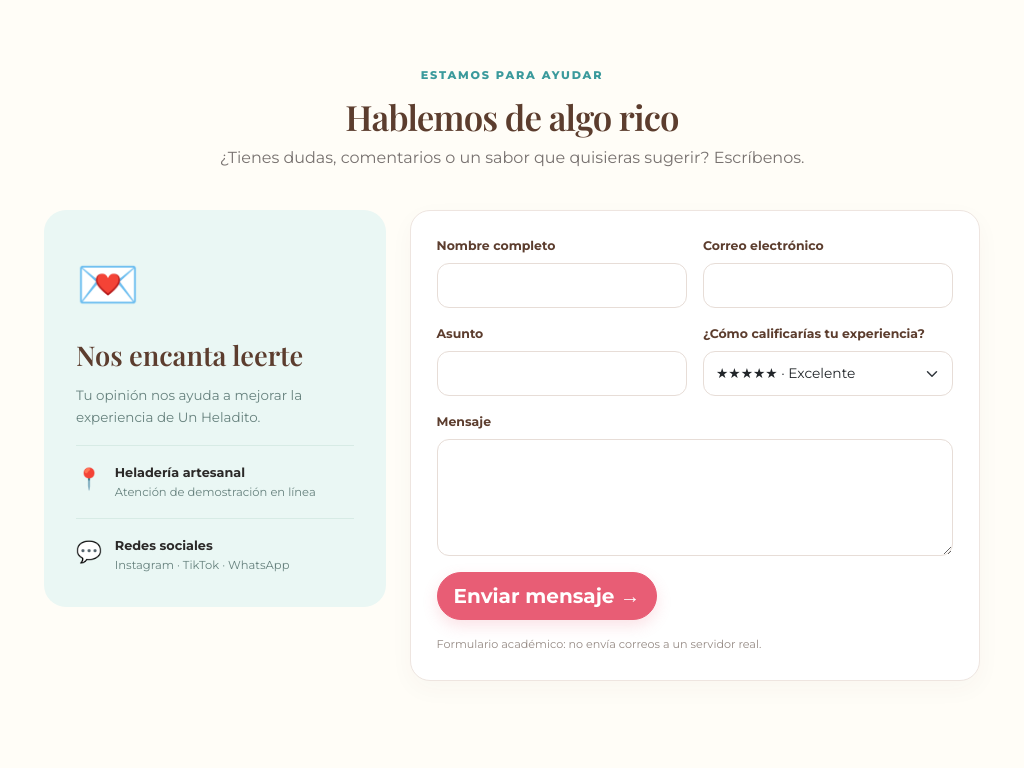
Scenario: Formulario Contact › muestra la confirmación al enviar y limpia los campos
The image size is (1024, 768).
Step 1. Type "Camila" into the field labelled "Nombre completo" → (562, 286), box [437,263,687,308]
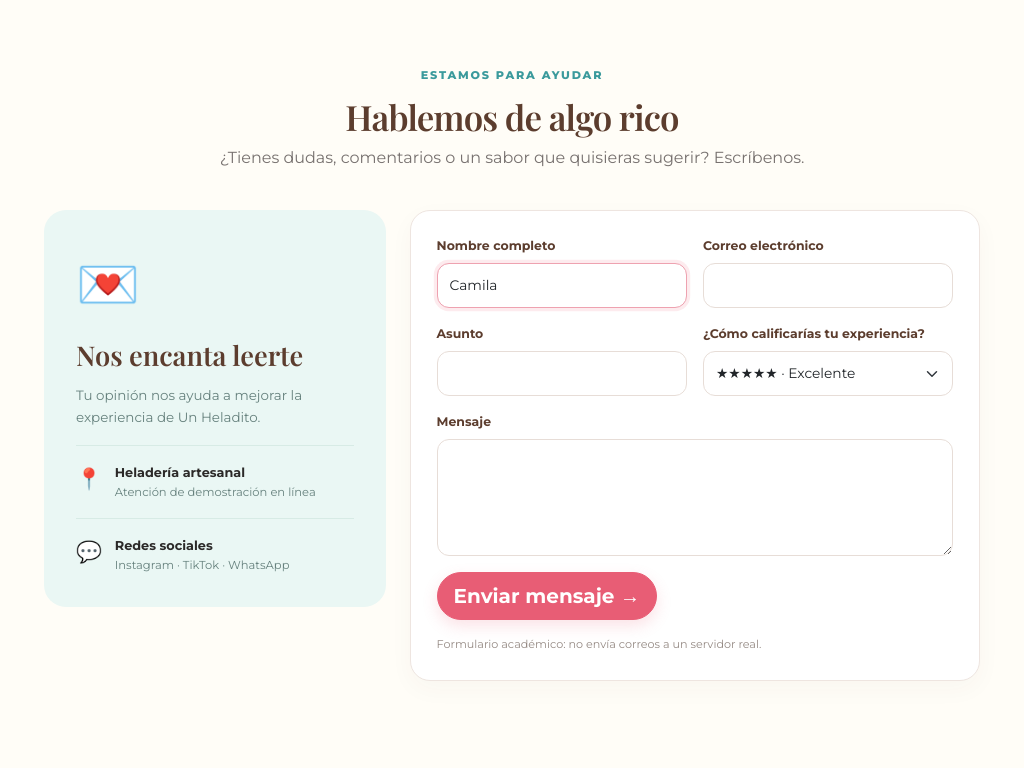
Step 2. Type "camila@example.com" into the field labelled "Correo electrónico" → (828, 286), box [703,263,953,308]
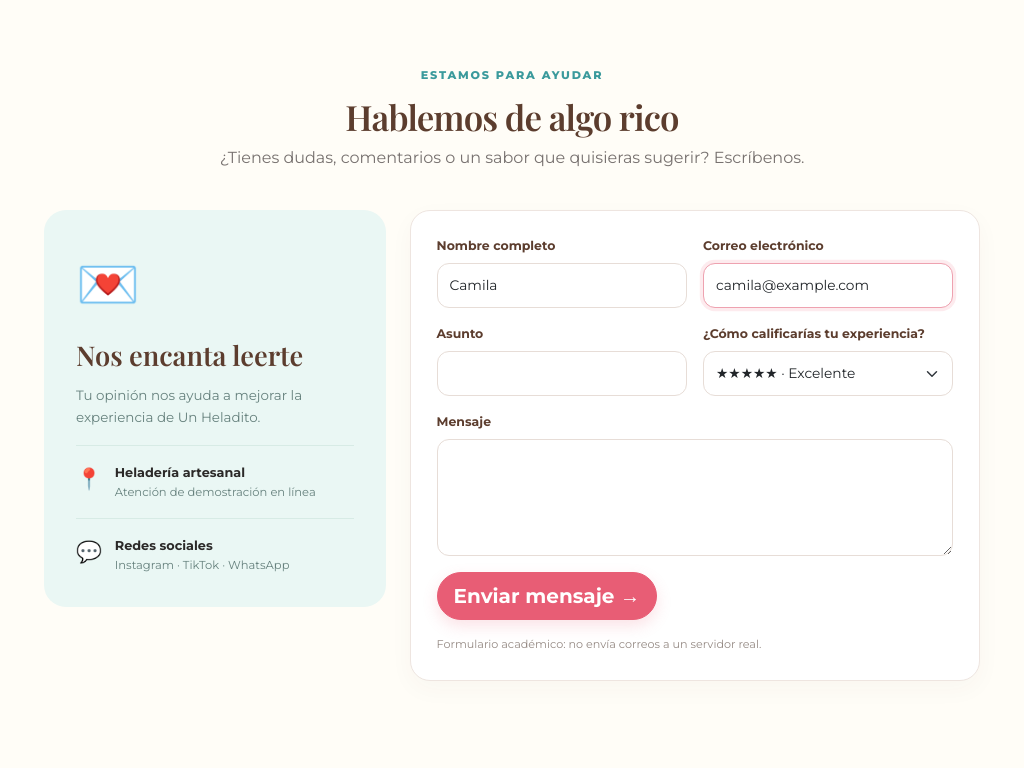
Step 3. Type "Consulta" into the field labelled "Asunto" → (562, 374), box [437,351,687,396]
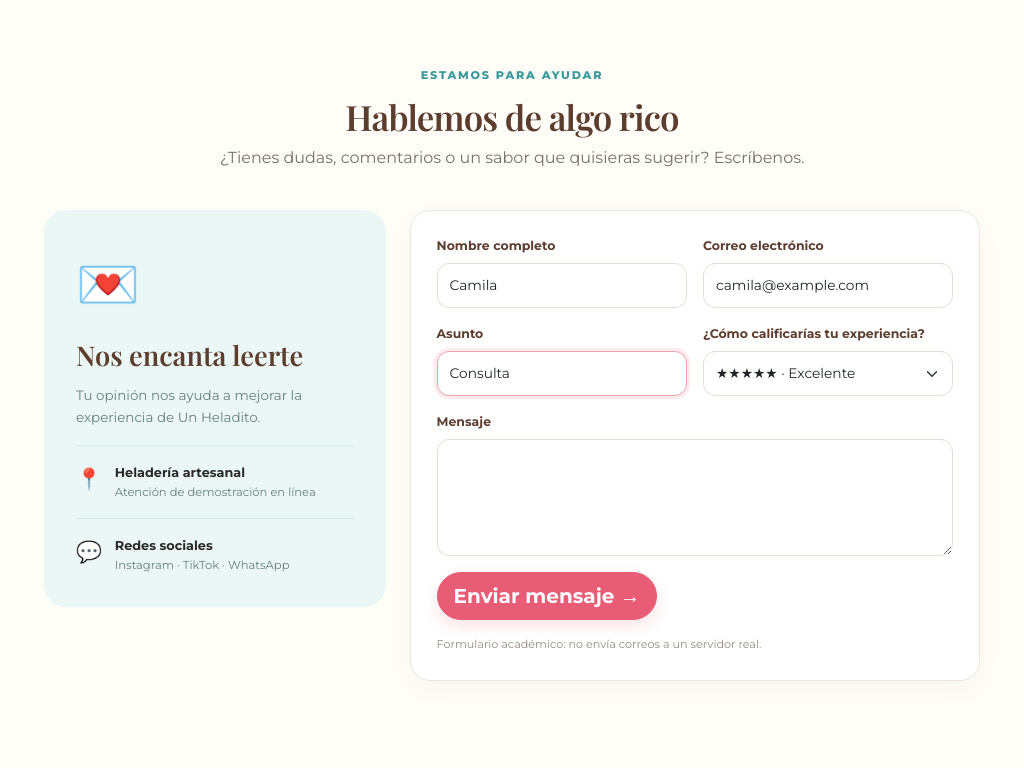
Step 4. Type "Quisiera conocer los sabores" into the text box labelled "Mensaje" → (695, 498), box [437,439,953,556]
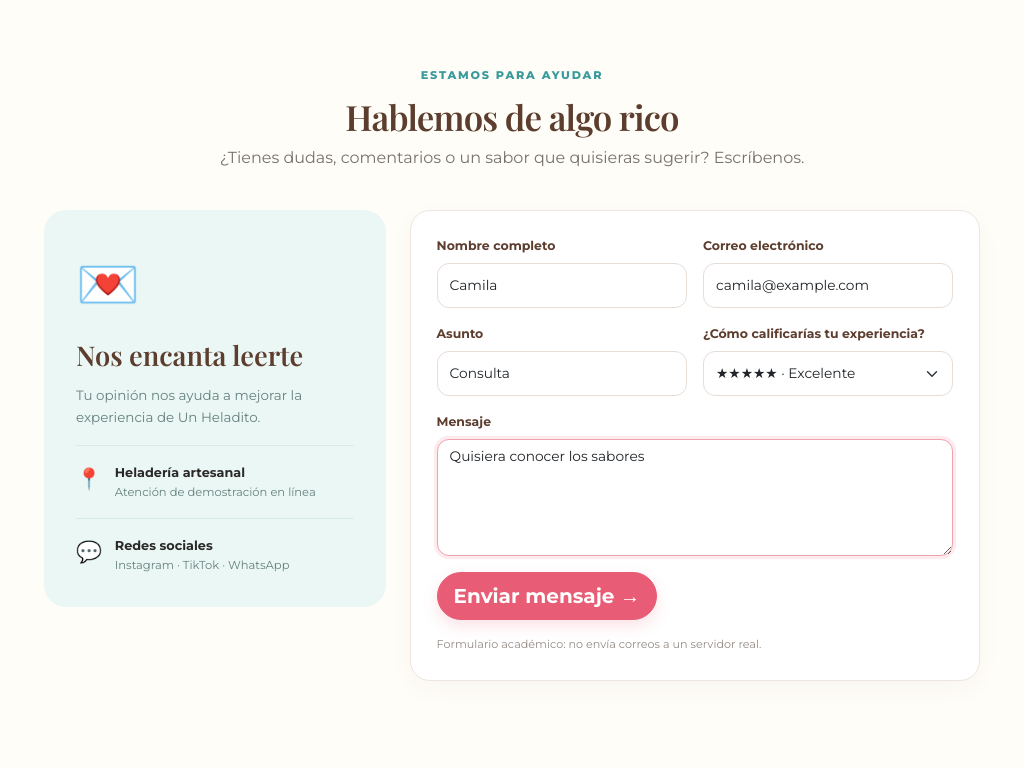
Step 5. Click the button "Enviar mensaje →" → (547, 596), box [437,572,657,620]
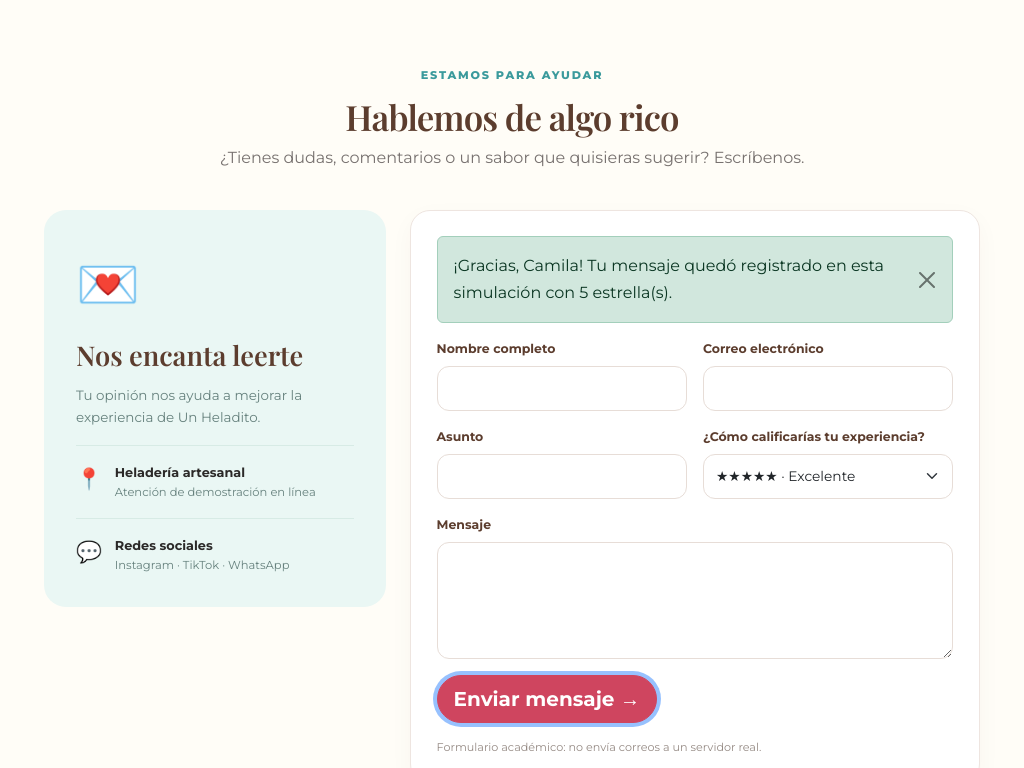
Result: the message shows "¡Gracias, Camila!" at [454,256,884,302]
Result: the message shows "5 estrella" at [454,256,884,302]
Result: the field labelled "Nombre completo" is empty at [437,366,687,411]
